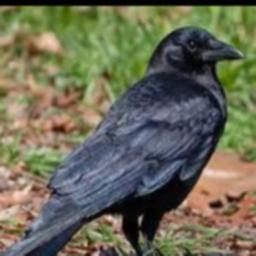Crow: (0, 24, 244, 256)
